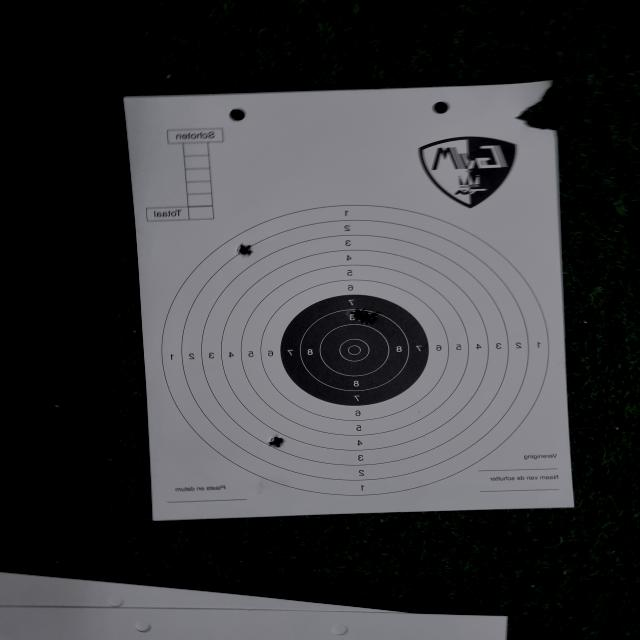2: (236, 242, 254, 258)
3: (268, 437, 285, 448)
8: (361, 312, 380, 324), (349, 308, 364, 320)
Target: (160, 205, 551, 496)
black_contour: (280, 290, 428, 406)
